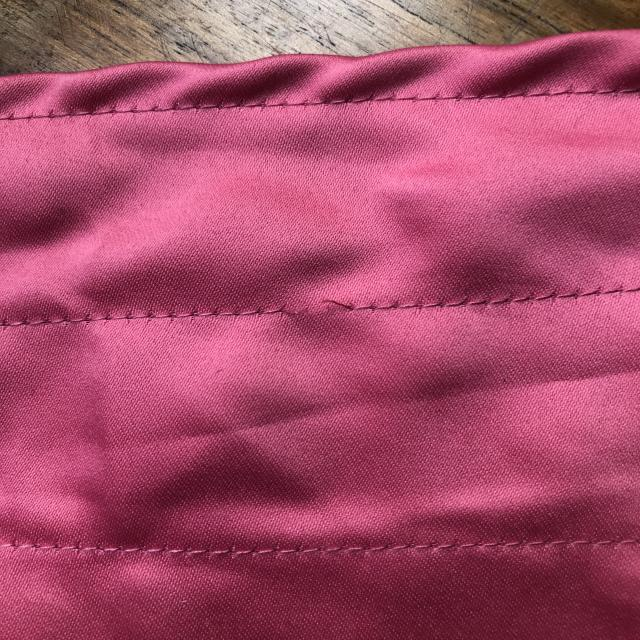broken: (256, 279, 371, 336), (270, 532, 480, 563)
